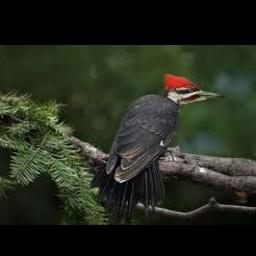Woodpecker: (92, 72, 223, 224)
